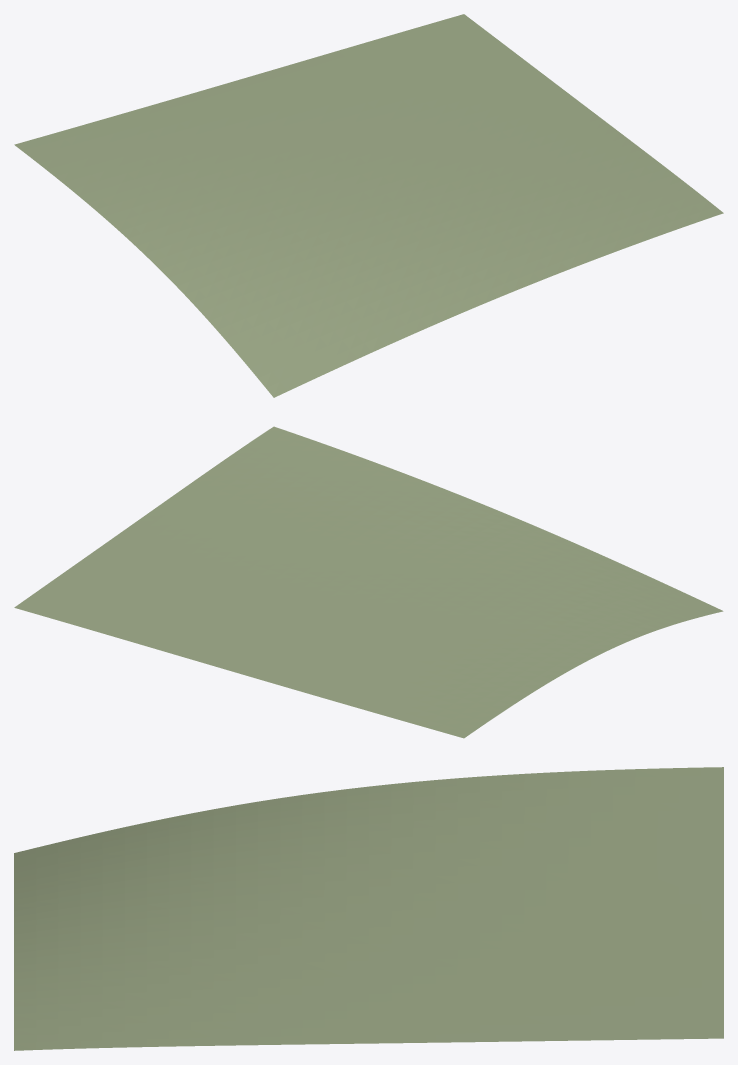
File: expanse-7-6.glb
3 renders of one model, top to bottom at view 1: azimuth 30°, elevation 25°; view 2: azimuth 150°, elevation 25°; view 3: azimuth 270°, elevation 25°, orthographic. The views are drawn at different scales.
Parts seen in each view (by area): view 1: expanse-7-6; view 2: expanse-7-6; view 3: expanse-7-6.
Boxes of the visible parts, <box> form: expanse-7-6: <box>14,14,723,397</box>; expanse-7-6: <box>14,426,723,738</box>; expanse-7-6: <box>14,767,723,1050</box>.
Bounding box in the file's own units: 256 × 45.59 × 256.
